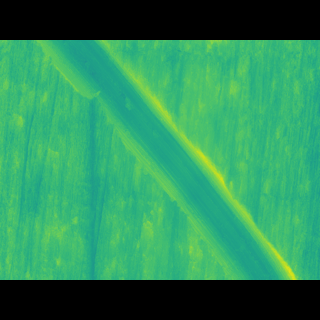Loch: (34, 69, 297, 251)
